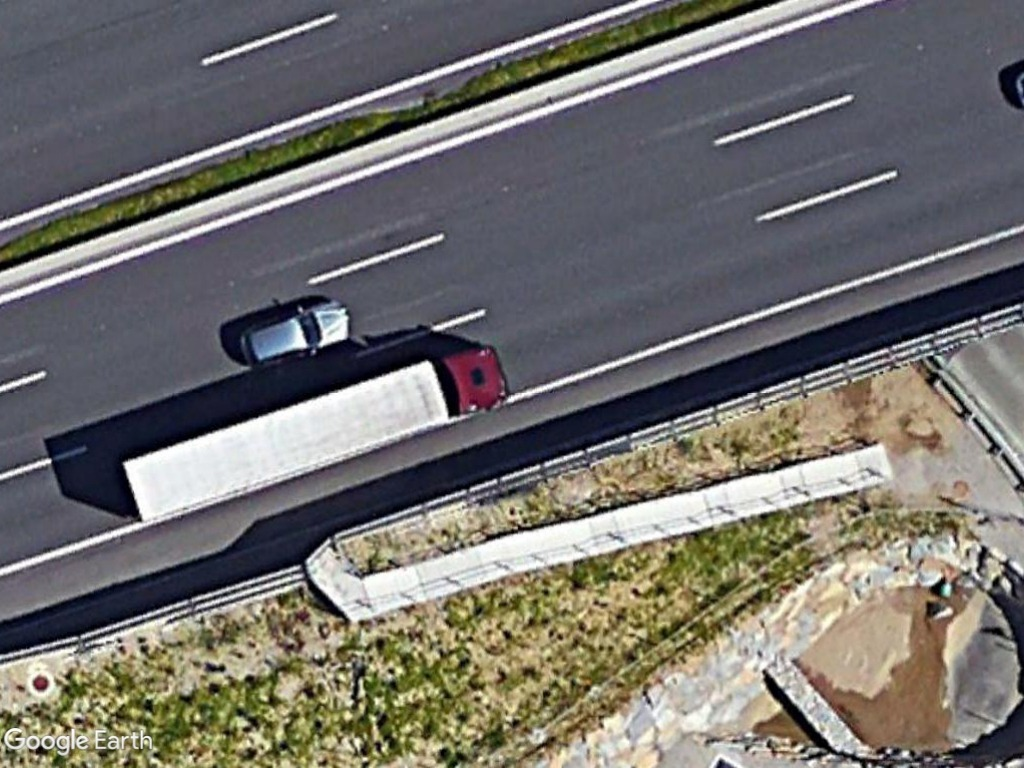car: (232, 292, 353, 373)
longvehicle: (115, 335, 511, 535)
